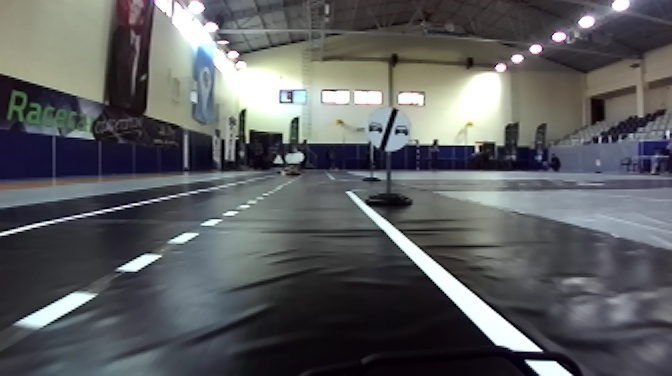sollama_serbest: (366, 106, 411, 152)
